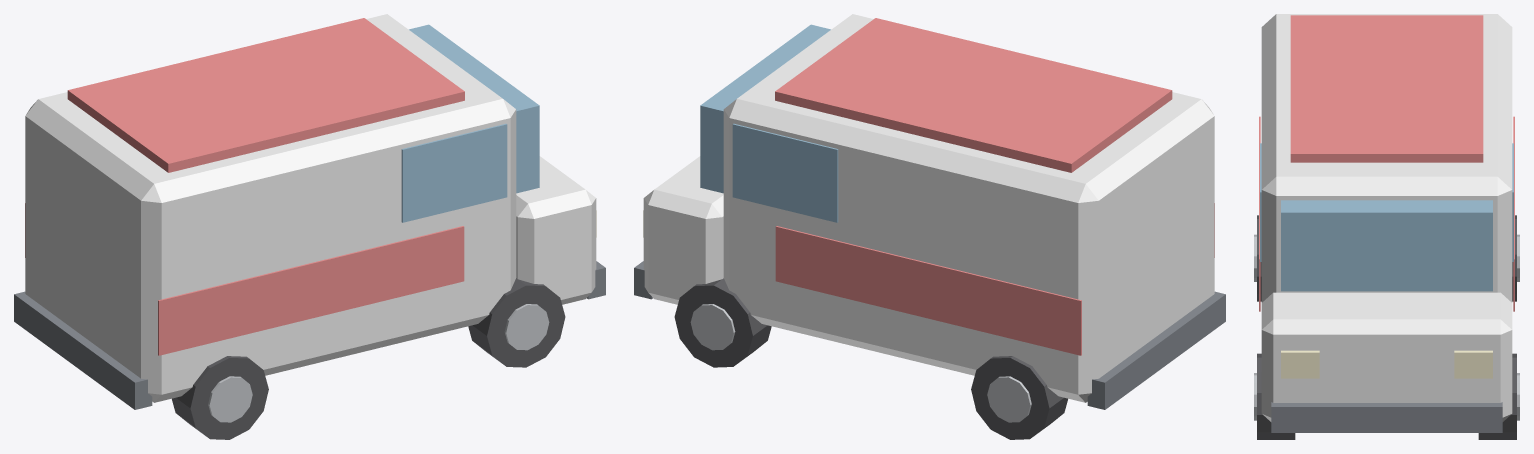
File: Van.fbx
3 renders of one model, left to right at view 1: azimuth 30°, elevation 25°; view 2: azimuth 150°, elevation 25°; view 3: azimuth 270°, elevation 25°, orthographic. The views are drawn at different scales.
Parts seen in each view (by area): view 1: Van; view 2: Van; view 3: Van.
Part boxes in pixels (x1,y1,x2,y2): Van: [14, 14, 605, 439]; Van: [634, 14, 1225, 439]; Van: [1254, 14, 1519, 439].
Bounding box in the file's own units: 0.54 × 0.3 × 0.276.
